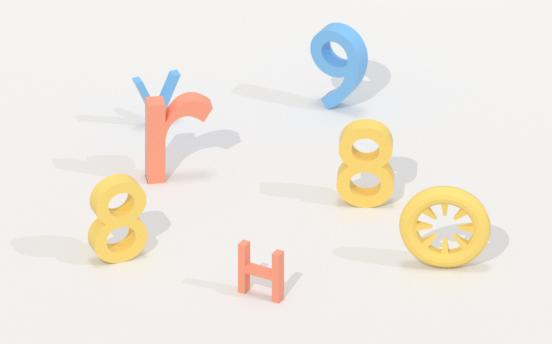8: (85, 169, 153, 267), (334, 116, 397, 211)
9: (308, 19, 370, 113)
H-hoa: (234, 234, 287, 308)
R: (139, 87, 218, 186)
tron: (396, 181, 493, 274)
v: (127, 65, 181, 122)
